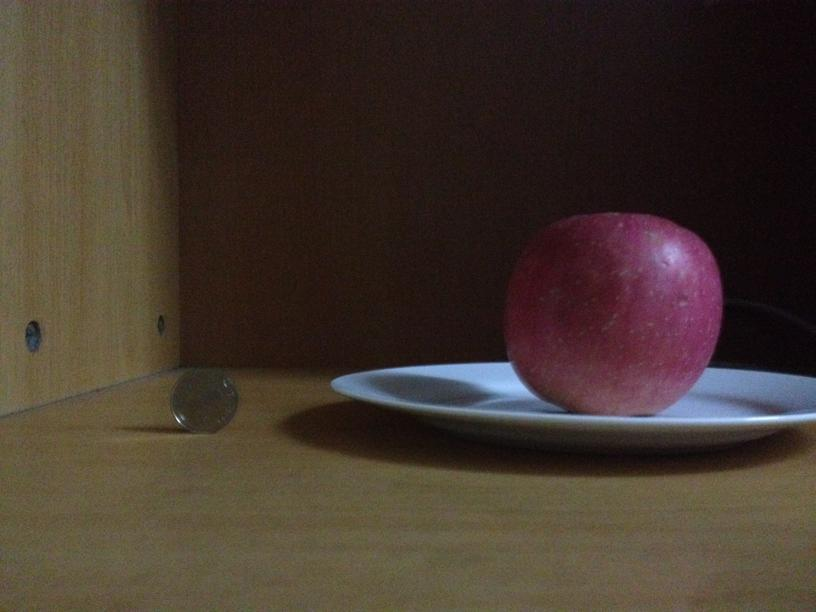apple: (510, 211, 720, 417)
coin: (170, 368, 240, 433)
